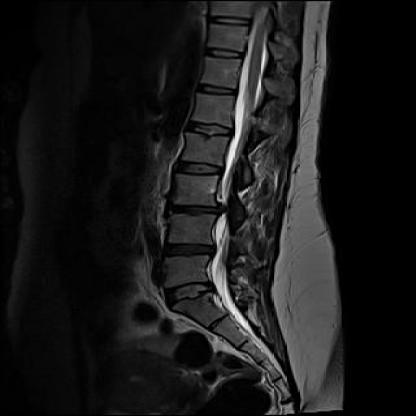Disc Bulgerotation: (160, 276, 222, 312), (165, 199, 231, 223), (157, 240, 220, 265)
